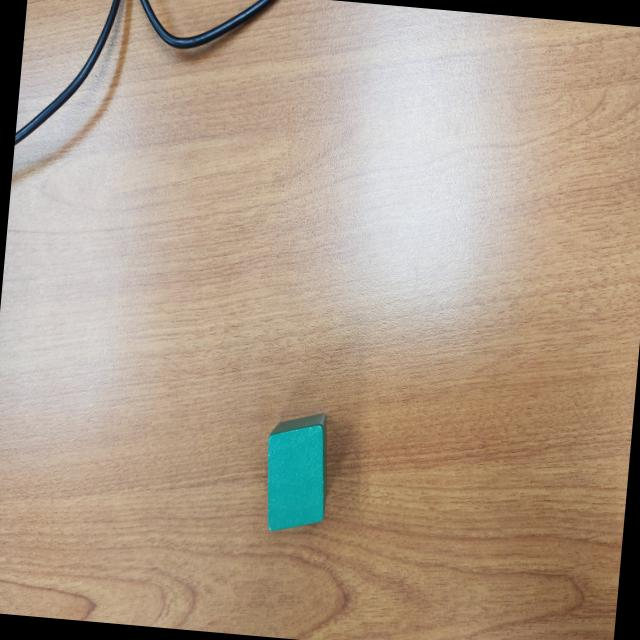green: (260, 406, 334, 536)
